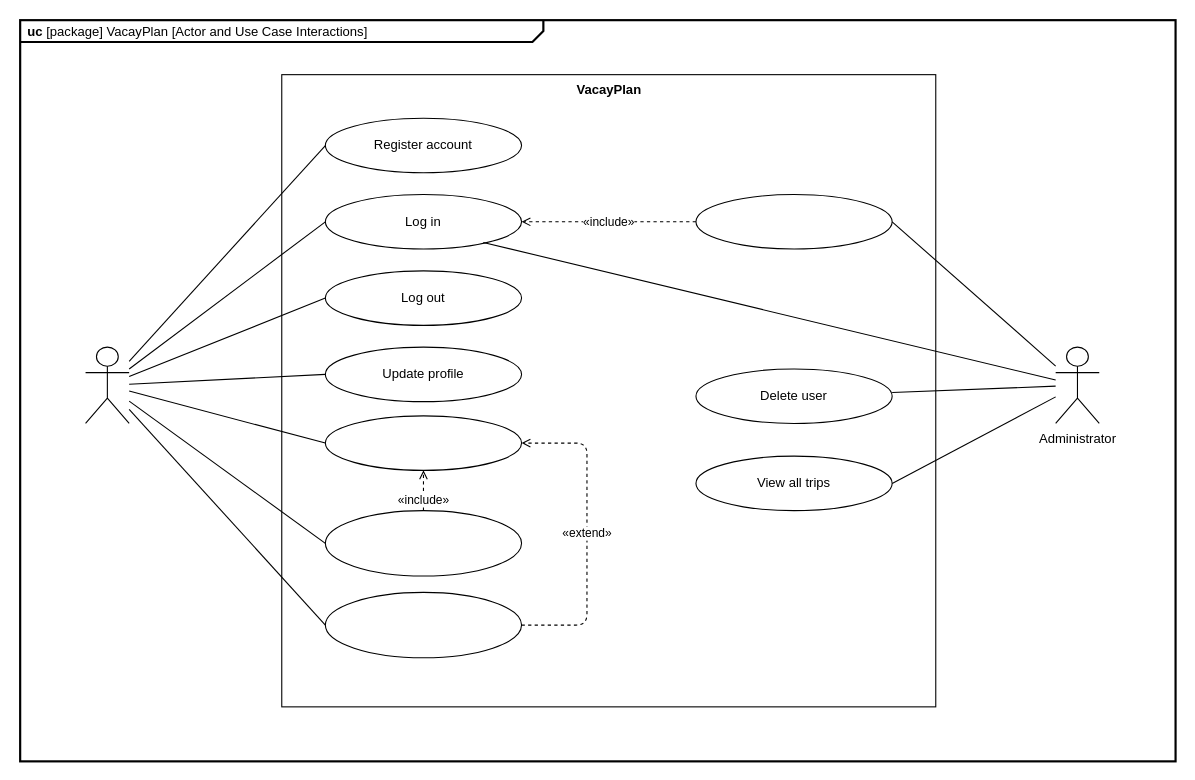
This 1195x780 diagram has some shape labels left out. The shapes that lost their labels are listed below. From the top down, each one's centre as x and y in pixels, then its label:
At (793,221): "Manage user accounts".
At (106,384): "Traveller".
At (423,442): "Manage trips (create / update / delete)".
At (423,543): "Manage activities within a trip".
At (423,624): "View trip weather forecast".
